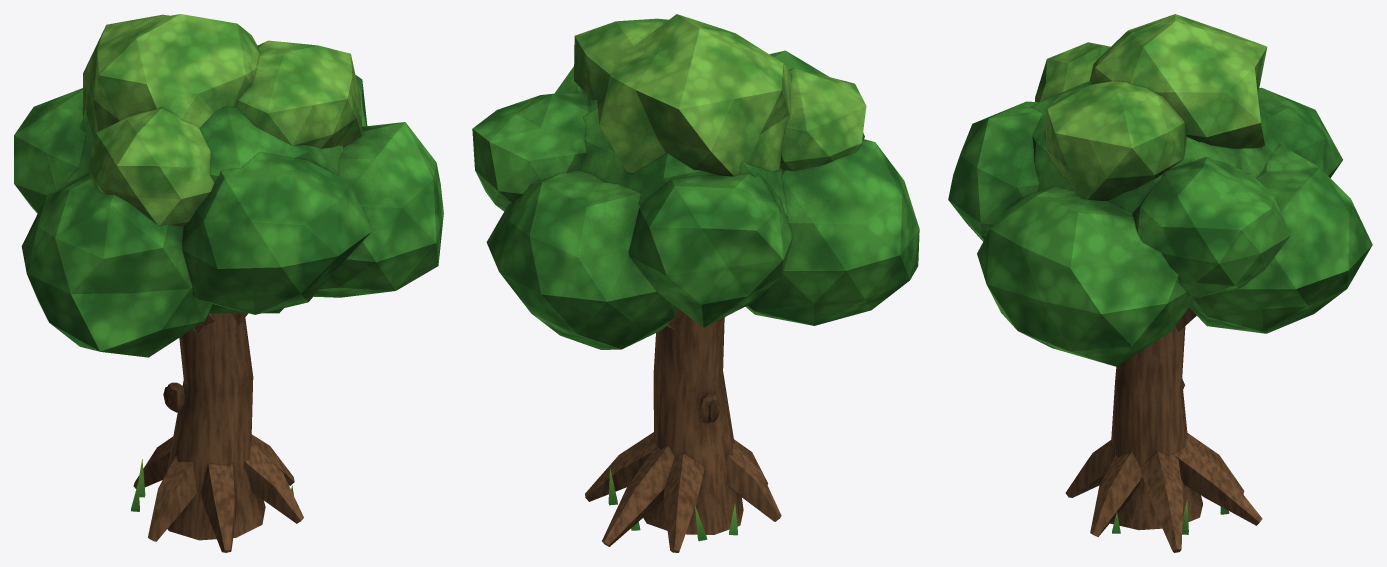
File: arbol_roble.fbx
3 renders of one model, left to right at view 1: azimuth 30°, elevation 25°; view 2: azimuth 150°, elevation 25°; view 3: azimuth 270°, elevation 25°, orthographic. The views are drawn at different scales.
Visible parts, largest first — view 1: arbol_roble; view 2: arbol_roble; view 3: arbol_roble.
Part boxes in pixels (x1,y1,x2,y2): arbol_roble: (14, 14, 443, 552); arbol_roble: (472, 14, 919, 552); arbol_roble: (948, 14, 1372, 552).
Size of the model in its own units: 19.48 by 23.38 by 18.64.
1 material, 1 textured.
